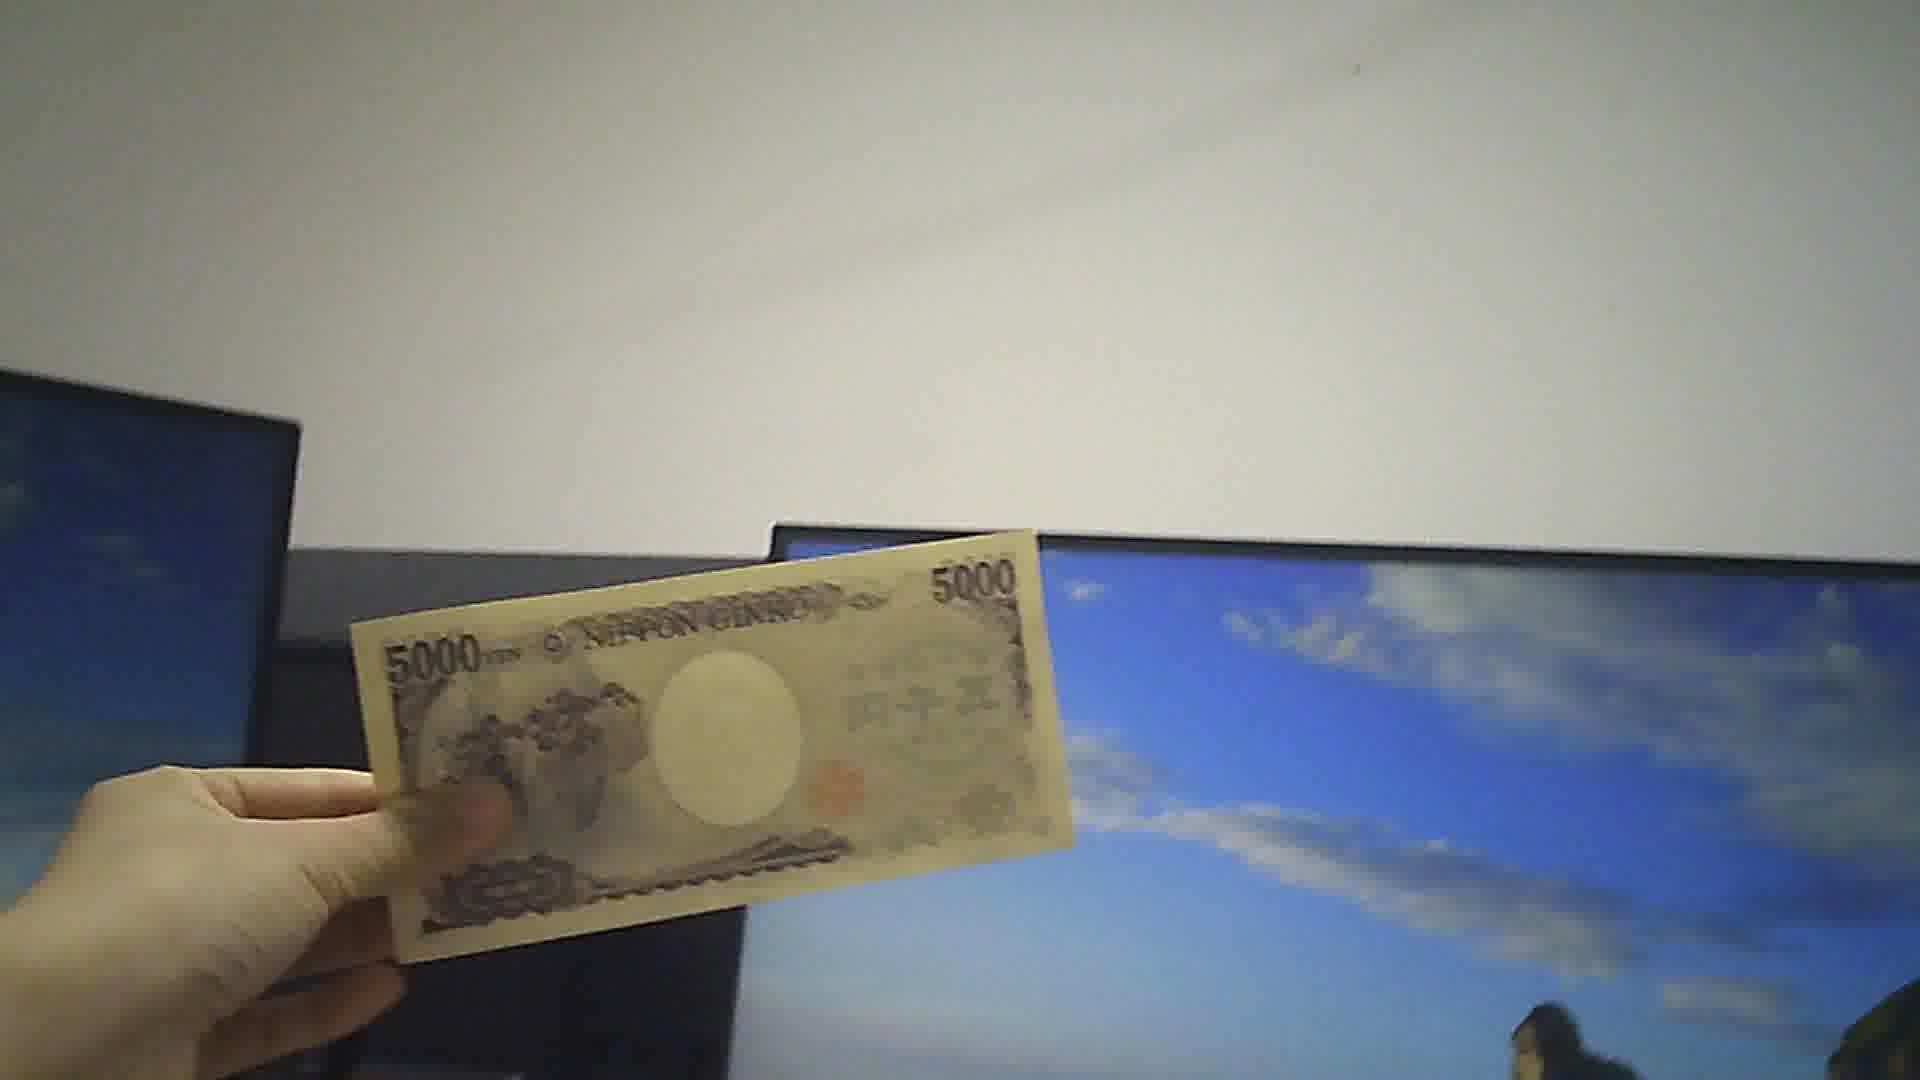5,000 Yen: (338, 543, 1050, 928)
